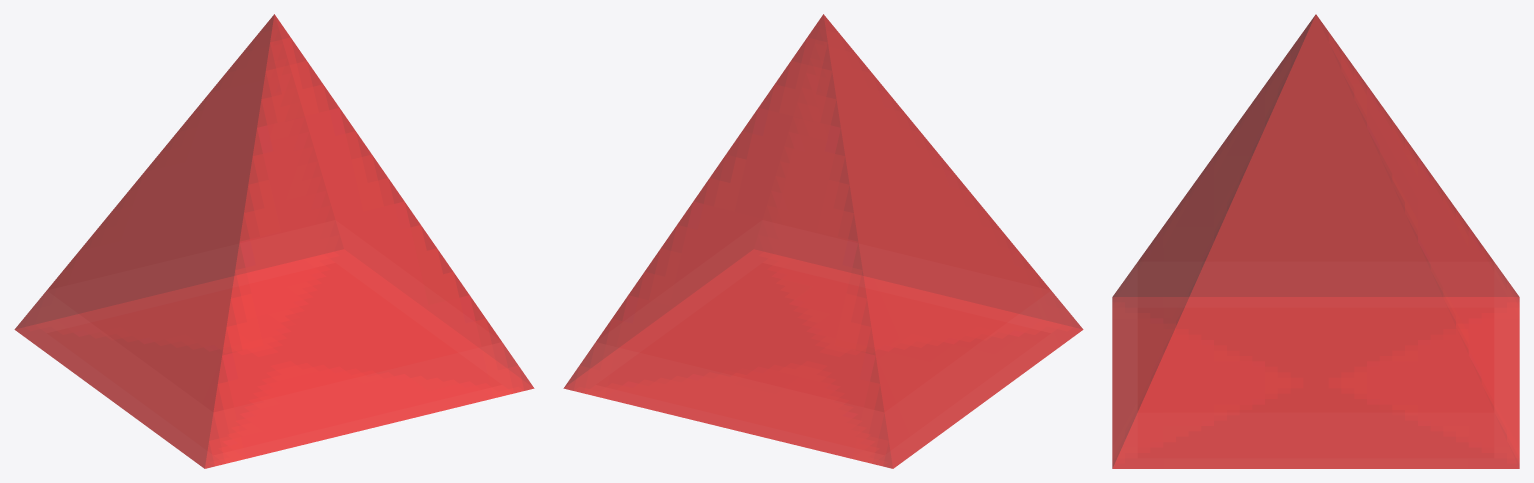
Rendered from RTDIcon.glb.
The picture shows the model from 3 angles, left to right: view 1: azimuth 30°, elevation 25°; view 2: azimuth 150°, elevation 25°; view 3: azimuth 270°, elevation 25°; orthographic projection. The views are drawn at different scales.
Parts seen in each view (by area): view 1: _RTDIcon; view 2: _RTDIcon; view 3: _RTDIcon.
Boxes of the visible parts, x1=… form: _RTDIcon: x1=14, y1=14, x2=534, y2=468; _RTDIcon: x1=563, y1=14, x2=1083, y2=468; _RTDIcon: x1=1112, y1=14, x2=1519, y2=468.
Size of the model in its own units: 0.5 by 0.5 by 0.5.
1 material, 1 textured.
